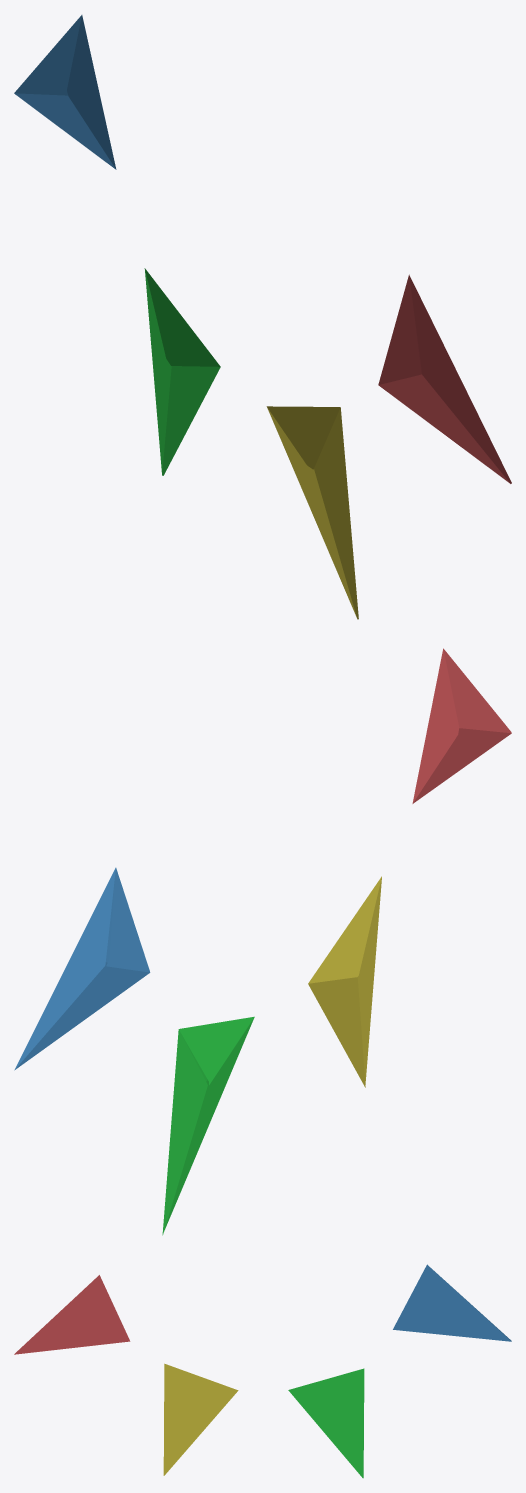
File: acc.fbx
3 renders of one model, top to bottom at view 1: azimuth 30°, elevation 25°; view 2: azimuth 150°, elevation 25°; view 3: azimuth 270°, elevation 25°, orthographic. The views are drawn at different scales.
Visible parts, largest first — view 1: Cube, Cube.003, Cube.002, Cube.001; view 2: Cube.001, Cube.002, Cube.003, Cube; view 3: Cube.002, Cube.003, Cube.001, Cube.
Boxes of the visible parts, bbox=[...] form: Cube: bbox=[378, 274, 511, 483]; Cube.003: bbox=[266, 406, 358, 619]; Cube.002: bbox=[144, 268, 220, 475]; Cube.001: bbox=[14, 15, 116, 169]; Cube.001: bbox=[14, 867, 150, 1070]; Cube.002: bbox=[162, 1016, 254, 1235]; Cube.003: bbox=[308, 876, 381, 1087]; Cube: bbox=[412, 648, 511, 803]; Cube.002: bbox=[288, 1368, 364, 1478]; Cube.003: bbox=[163, 1363, 238, 1475]; Cube.001: bbox=[393, 1264, 511, 1341]; Cube: bbox=[14, 1275, 130, 1354].
Bounding box in the file's own units: 39.74 × 623 × 1340.
